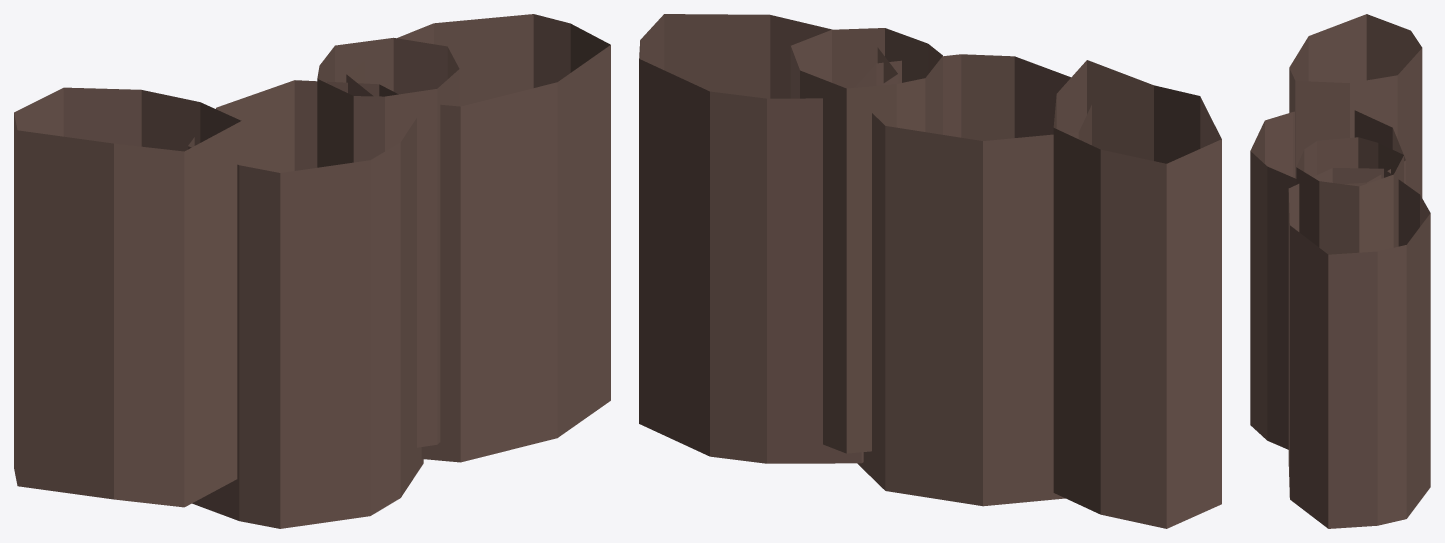
The picture shows the model from 3 angles, left to right: view 1: azimuth 30°, elevation 25°; view 2: azimuth 150°, elevation 25°; view 3: azimuth 270°, elevation 25°; orthographic projection. The views are drawn at different scales.
Parts seen in each view (by area): view 1: Cube.009; view 2: Cube.009; view 3: Cube.009.
Boxes of the visible parts, box(x1,y1,x2,y2) form: Cube.009: box(14, 14, 610, 528); Cube.009: box(639, 14, 1221, 528); Cube.009: box(1250, 14, 1430, 528).
Size of the model in its own units: 5858 by 3920 by 2087.
